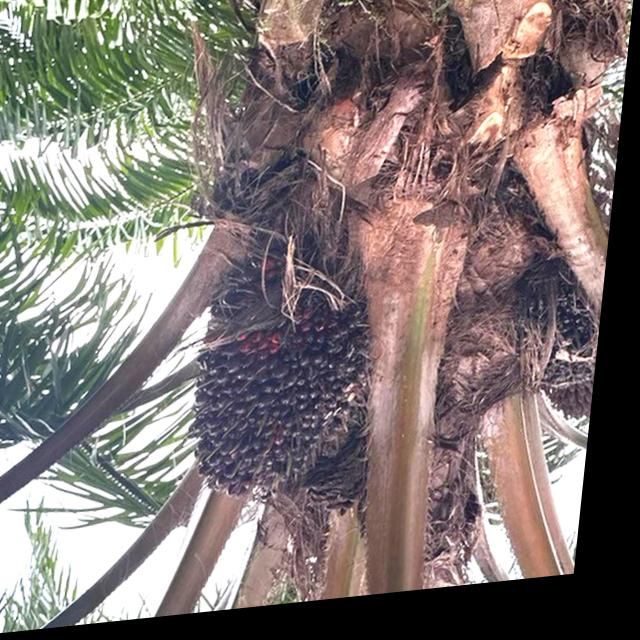ripe: (186, 258, 400, 524)
